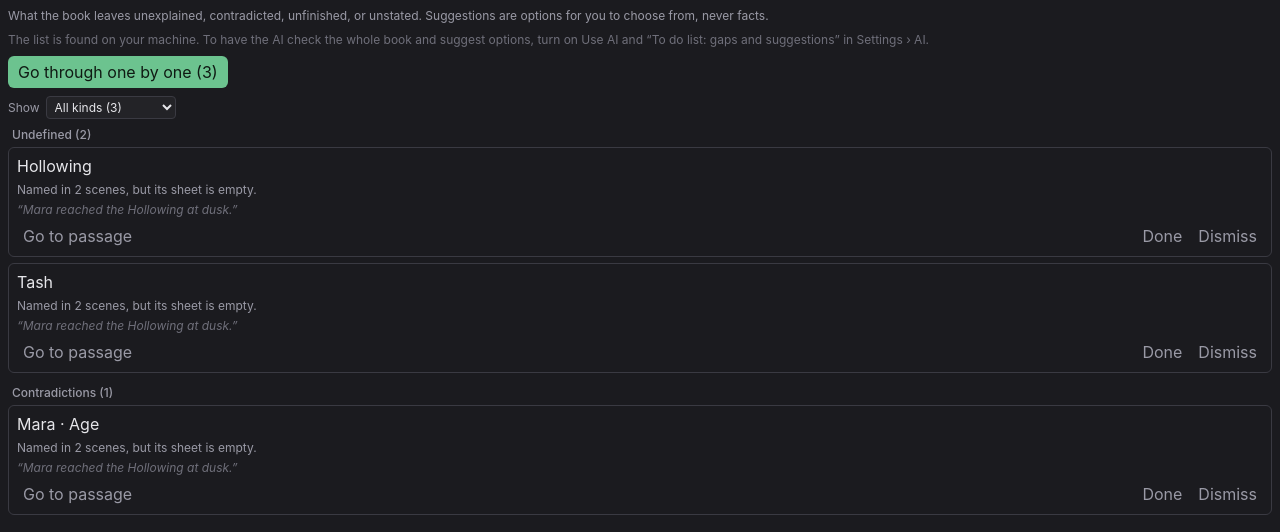
TodoTab (F-9.16) › groups the items by kind with counts, and filters by kind
expect the heading "Undefined (2)" is shown: met, box 12,127 -> 91,142
expect the element "Contradictions" is shown: met, box 8,385 -> 1272,515
Select "Contradictions (1)" in the dropdown named "Show kind": (111, 108) 46,96 -> 176,119
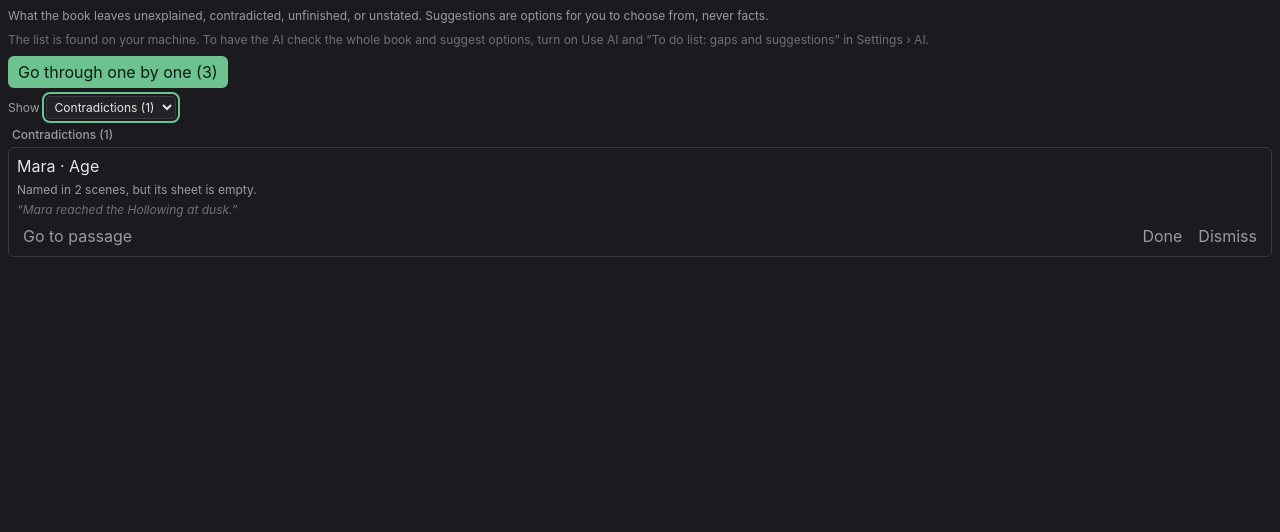
expect the list item "Mara · Age" is shown: met, box 8,147 -> 1272,257
expect the heading "Undefined" is gone: met
